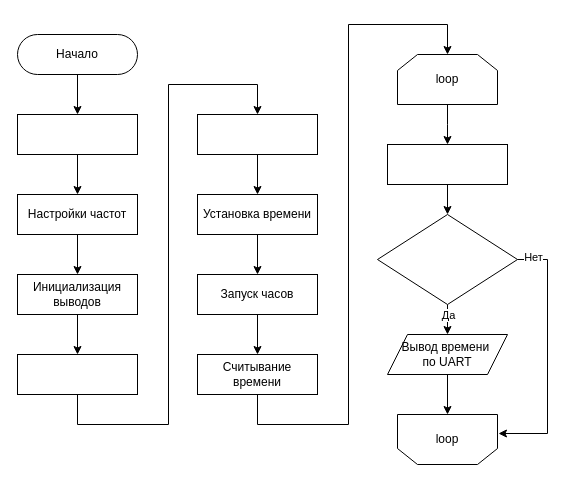
The diagram is 573 pixels wide and 482 high, and some of its shapes have lost their labels. Each missing label, with the box of its shape:
Инициализация RTC: (196, 114, 318, 154)
Инициализация UART: (16, 354, 138, 394)
Получение периферии: (16, 114, 138, 154)
Считывание текущего времени: (386, 144, 508, 184)
Текущее время отличается от прошлого?: (376, 214, 518, 304)
